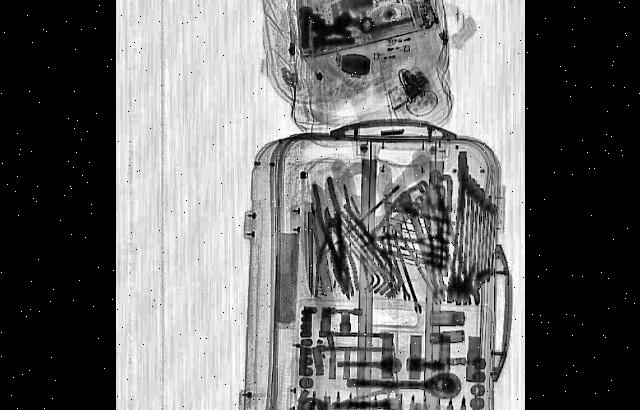Pliers: (308, 172, 358, 306), (304, 200, 358, 302)
Wrench: (426, 168, 479, 312), (412, 192, 450, 304), (388, 223, 422, 316), (379, 228, 408, 302)
